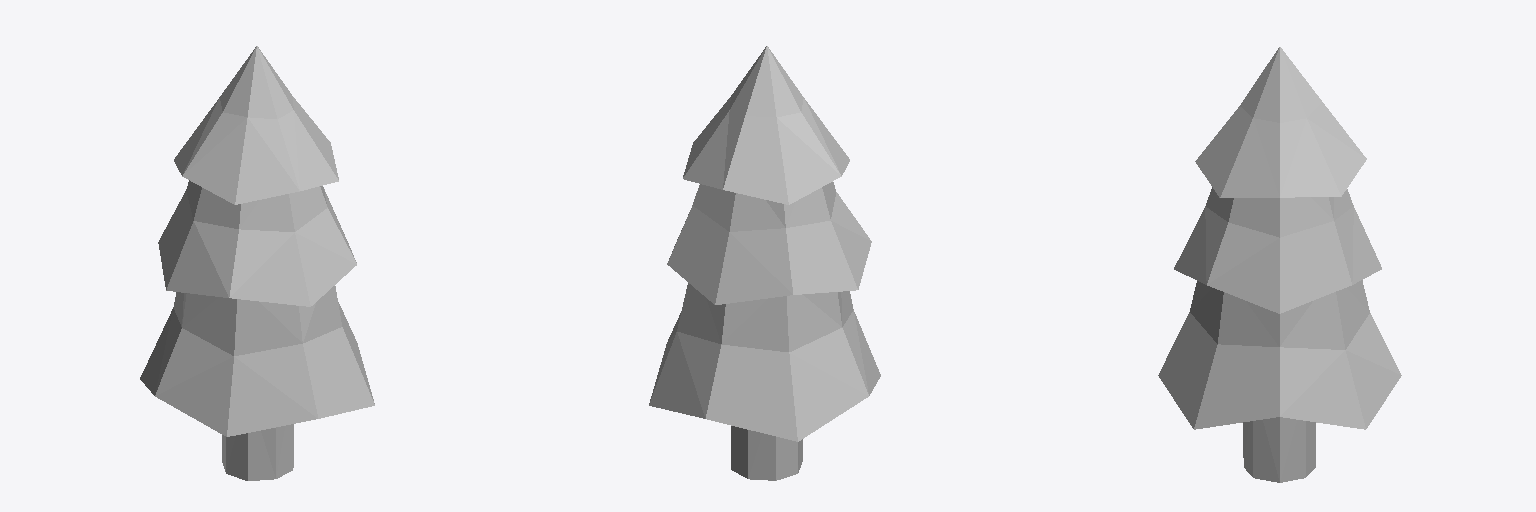
Rendered from Baum1.obj.
3 views of the same model, side by side, from view 1: azimuth 30°, elevation 25°; view 2: azimuth 150°, elevation 25°; view 3: azimuth 270°, elevation 25° (orthographic).
Parts seen in each view (by area): view 1: Tree_01_gradient_yellow; view 2: Tree_01_gradient_yellow; view 3: Tree_01_gradient_yellow.
Part boxes in pixels (x1,y1,x2,y2): Tree_01_gradient_yellow: (140, 46, 374, 480); Tree_01_gradient_yellow: (649, 46, 880, 480); Tree_01_gradient_yellow: (1158, 47, 1401, 482).
Bounding box in the file's own units: 0.8322 × 1.65 × 0.8678.